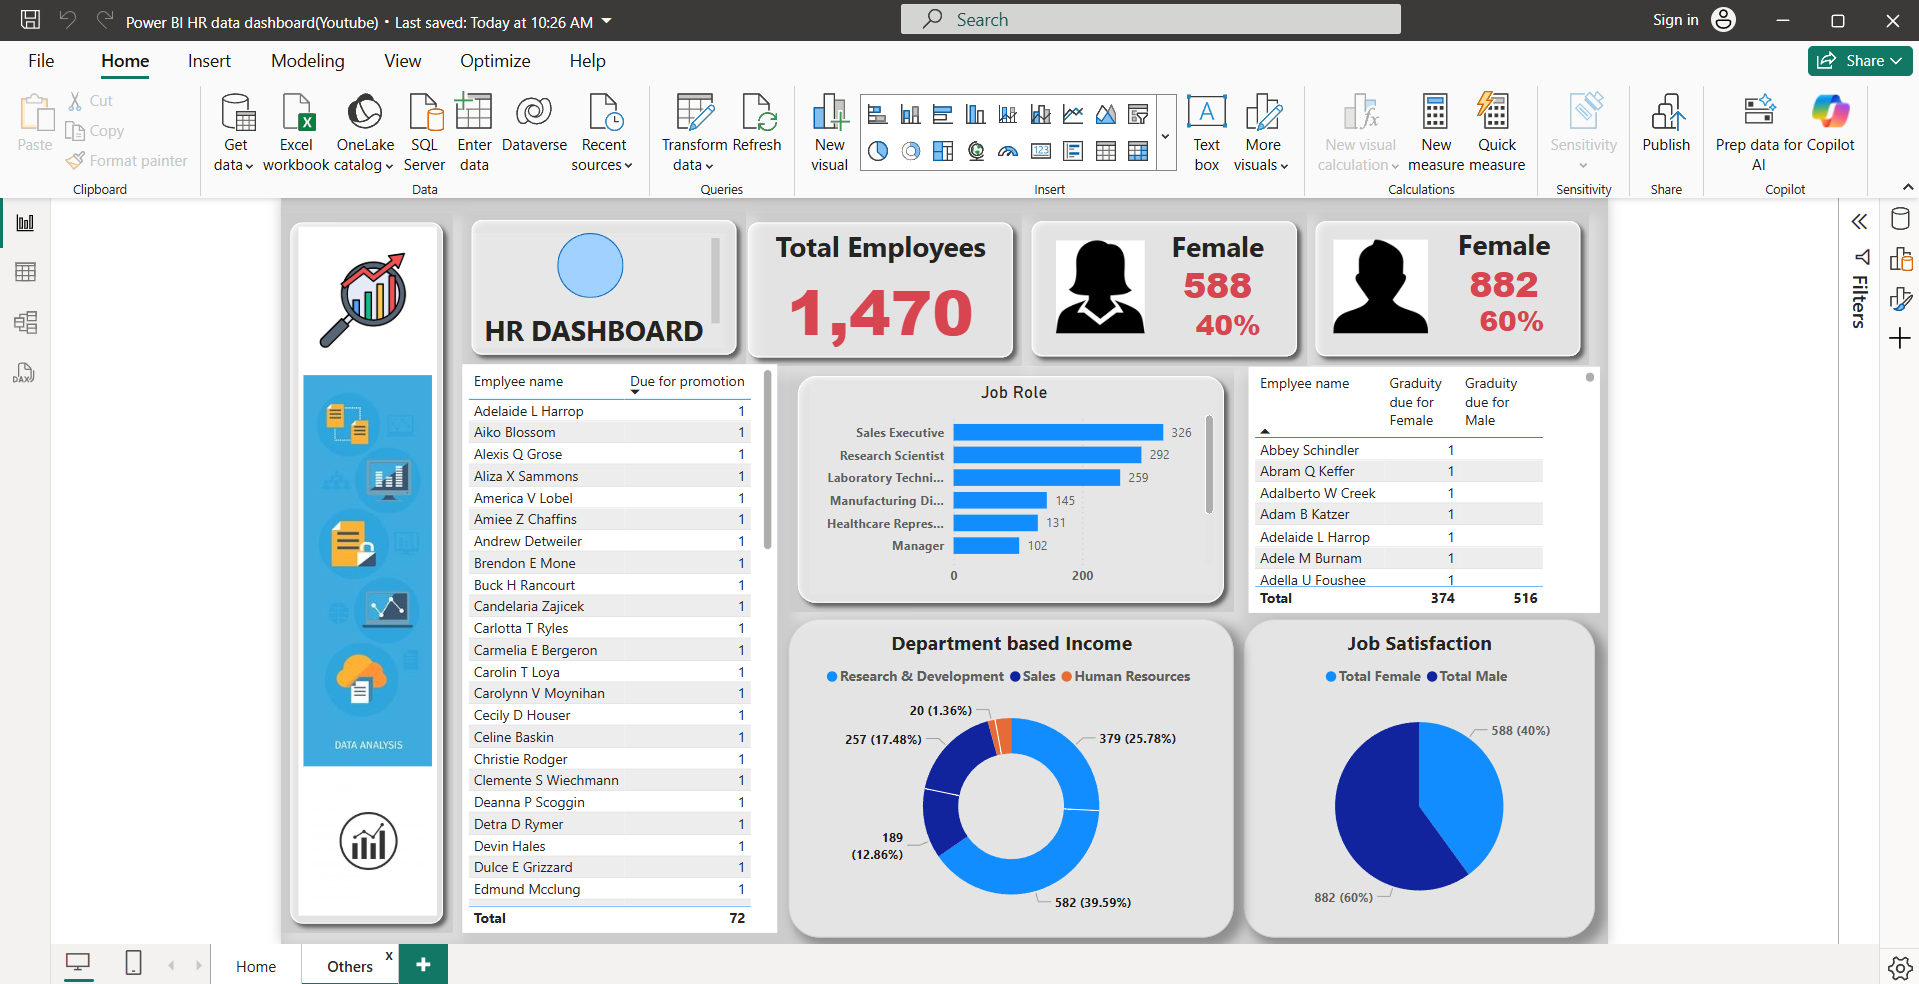

What the dashboard file says about the page in this screenshot:
{"tool":"powerbi","page":{"name":"Home","canvas":[1280,720],"ordinal":0},"visuals":[{"type":"shape","box":[0,14.5,165.3,694.9],"z":0},{"type":"shape","box":[989.3,13.3,273.9,148.4],"z":1000},{"type":"shape","box":[715.6,13,274.1,148.6],"z":2000},{"type":"shape","box":[441.6,14.5,273.9,148.4],"z":3000},{"type":"shape","box":[167.7,14.5,273.9,148.4],"z":4000},{"type":"shape","box":[168.2,161.5,387.1,291],"z":5000},{"type":"shape","box":[555.2,162.8,361.7,289.6],"z":6000},{"type":"shape","box":[552.6,452.5,351,257.6],"z":7000},{"type":"shape","box":[917,162.8,197.5,221.6],"z":8000},{"type":"shape","box":[1114.5,162.8,165.5,220.2],"z":9000},{"type":"shape","box":[918.3,383.1,361.7,327],"z":10000},{"type":"textbox","box":[183.4,33.8,244.9,111],"z":11000},{"type":"shape","box":[266.6,33.8,63.9,62.7],"z":12000},{"type":"card","title":"Total Employees","fields":{"Values":["New Measures.Total Emp"]},"box":[455.9,27.4,245.3,121.2],"z":13000},{"type":"card","title":"Female","fields":{"Values":["New Measures.Total Female"]},"box":[838.2,27.4,131.3,77.9],"z":14000},{"type":"card","fields":{"Values":["New Measures.Female %"]},"box":[838.2,64.9,151.5,115.4],"z":15000},{"type":"image","box":[743,33.2,95.2,103.9],"z":16000},{"type":"card","title":"Female","fields":{"Values":["New Measures.Total Male"]},"box":[1115.3,26,131.3,77.9],"z":17000},{"type":"card","fields":{"Values":["New Measures.Male %"]},"box":[1112.4,62,151.5,115.4],"z":18000},{"type":"image","box":[1011.4,33.2,101,102.4],"z":19000},{"type":"card","title":"Promotions Due","fields":{"Values":["New Measures.Due for promotion"]},"box":[181.2,197.5,343.8,215],"z":20000},{"type":"shape","box":[165,448.8,387.5,253.8],"z":22000},{"type":"barChart","title":"Service Years","fields":{"Category":["HR Analytics Data.Service Years"],"Y":["New Measures.Total Emp"]},"box":[567.5,193.8,325,220],"z":24000},{"type":"columnChart","title":"Job Levels","fields":{"Y":["New Measures.Total Emp"],"Category":["HR Analytics Data.Job Levels"]},"box":[577.9,475.2,300.3,209.6],"z":25000},{"type":"card","title":"Graduity Due","fields":{"Values":["New Measures.Graduity"]},"box":[930.3,210.9,168.2,149.5],"z":26000},{"type":"card","title":"Female","fields":{"Values":["New Measures.Graduity due for Female"]},"box":[1142.5,197.5,104.1,82.8],"z":27000},{"type":"card","title":"Male","fields":{"Values":["New Measures.Graduity due for Male"]},"box":[1142.5,280.3,104.1,74.7],"z":28000},{"type":"donutChart","title":"Distance Status","fields":{"Category":["HR Analytics Data.Distance Status"],"Y":["Sum(HR Analytics Data.DistanceFromHome)"]},"box":[941,412.4,321.7,268.3],"z":29000},{"type":"image","box":[16.9,27.7,133.9,664.7],"z":30000},{"type":"image","box":[16.9,0,124.3,197.9],"z":31000},{"type":"image","box":[22.9,559.8,123.1,121.9],"z":32000},{"type":"clusteredBarChart","title":"Marital status","fields":{"Y":["New Measures.Total Emp"],"Category":["HR Analytics Data.MaritalStatus"]},"box":[183.8,463.8,357.5,223.8],"z":32001}]}

Visuals, with their boxes on the page's 1280x720 design canvas (x1, y1, x2, y2). These are canvas units, not pixel positions in the 1919x984 screenshot, which may show the page scaled, cropped or inside an application window:
shape: [0, 14, 165, 709]
shape: [989, 13, 1263, 162]
shape: [716, 13, 990, 162]
shape: [442, 14, 716, 163]
shape: [168, 14, 442, 163]
shape: [168, 162, 555, 452]
shape: [555, 163, 917, 452]
shape: [553, 452, 904, 710]
shape: [917, 163, 1114, 384]
shape: [1114, 163, 1280, 383]
shape: [918, 383, 1280, 710]
textbox: [183, 34, 428, 145]
shape: [267, 34, 330, 96]
"Total Employees" card: [456, 27, 701, 149]
"Female" card: [838, 27, 970, 105]
card - New Measures.Female %: [838, 65, 990, 180]
image: [743, 33, 838, 137]
"Female" card: [1115, 26, 1247, 104]
card - New Measures.Male %: [1112, 62, 1264, 177]
image: [1011, 33, 1112, 136]
"Promotions Due" card: [181, 198, 525, 412]
shape: [165, 449, 552, 703]
"Service Years" barChart: [568, 194, 892, 414]
"Job Levels" columnChart: [578, 475, 878, 685]
"Graduity Due" card: [930, 211, 1098, 360]
"Female" card: [1142, 198, 1247, 280]
"Male" card: [1142, 280, 1247, 355]
"Distance Status" donutChart: [941, 412, 1263, 681]
image: [17, 28, 151, 692]
image: [17, 0, 141, 198]
image: [23, 560, 146, 682]
"Marital status" clusteredBarChart: [184, 464, 541, 688]
